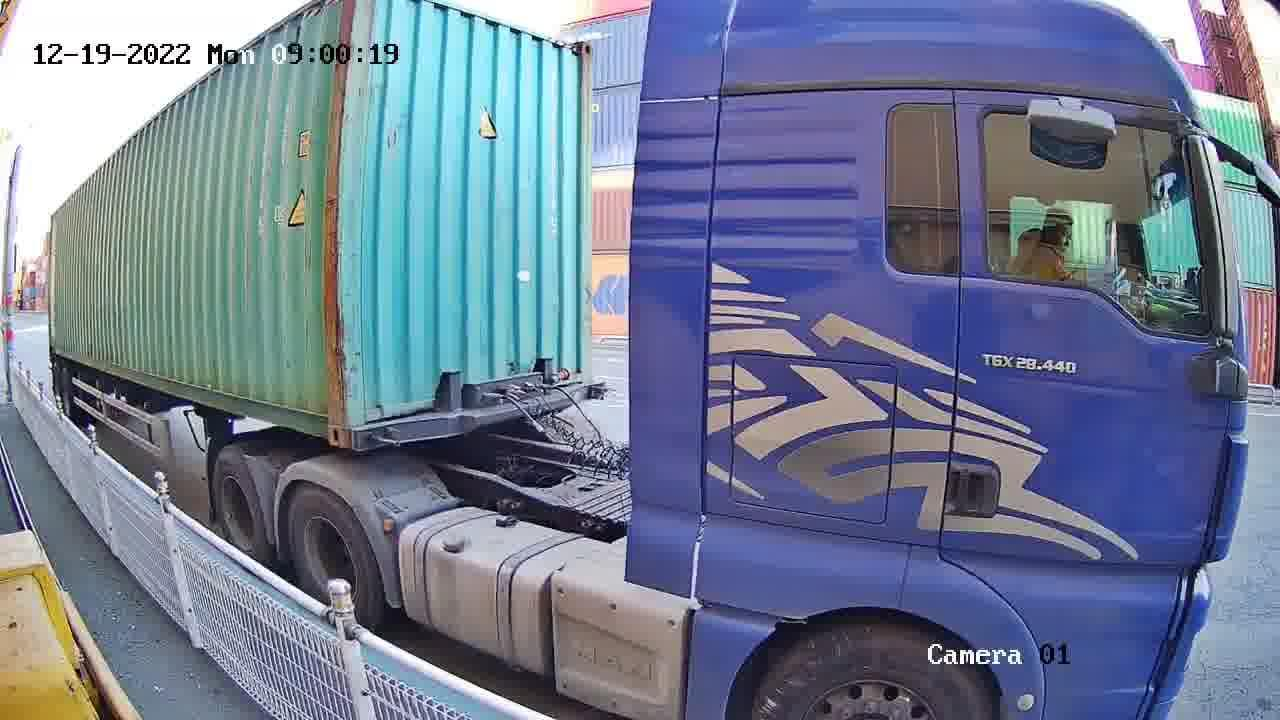Chassis: (353, 383, 594, 449)
Cone: (362, 421, 400, 448), (588, 382, 612, 399)
Hole_R: (308, 398, 347, 446)
Tire: (288, 491, 379, 611), (214, 452, 267, 554)
